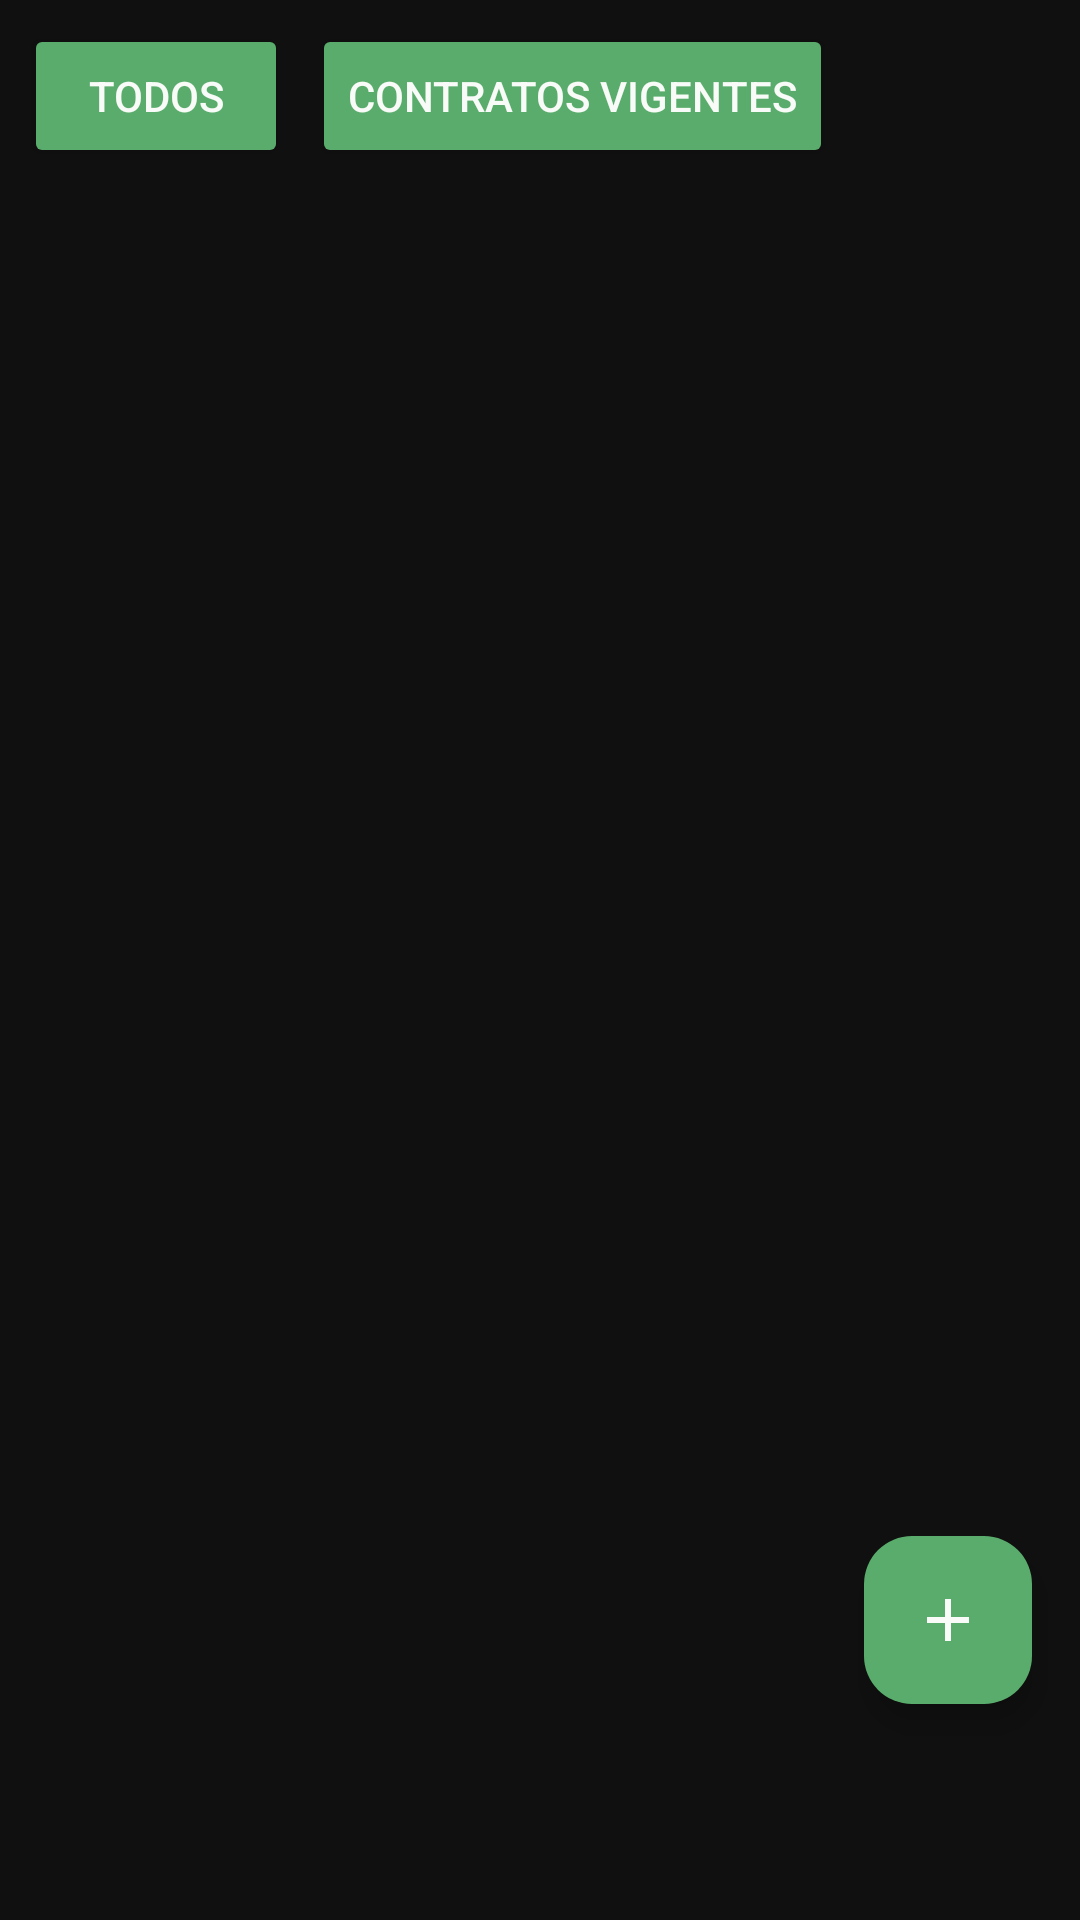

Icon bounding boxes for this 1080w x 1920h phone screenshot, format (x1, y1, x2, y2):
Agregar inmueble: (864, 1536, 1032, 1704)
